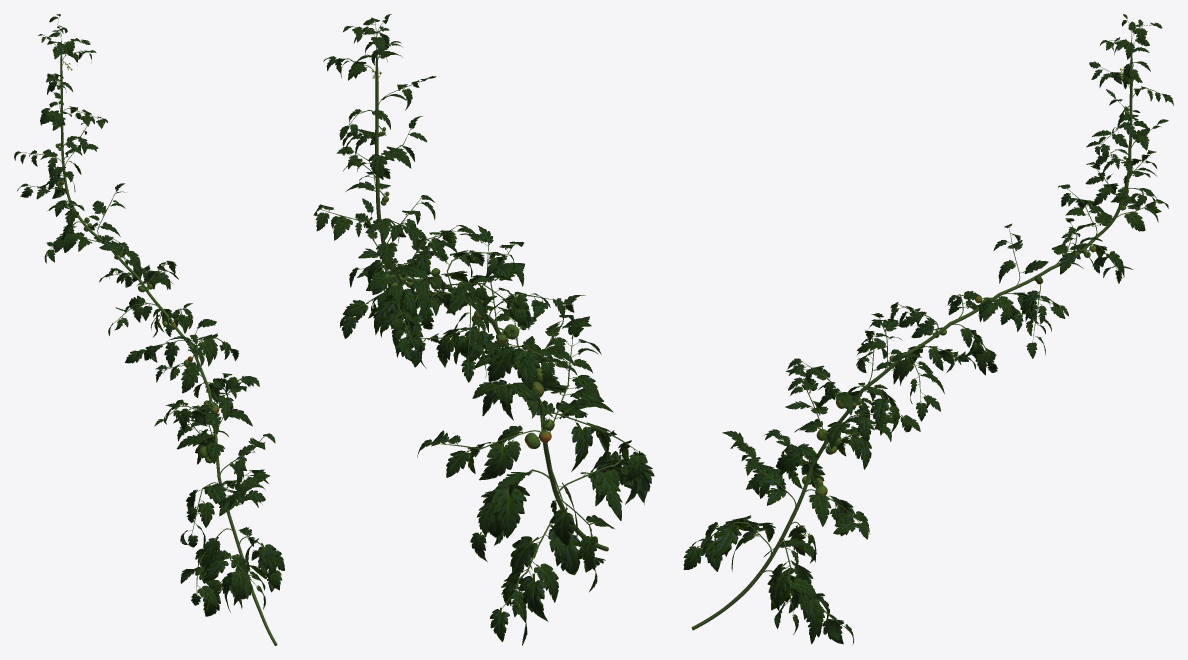
The model's file is tomato_002.glb.
The picture shows the model from 3 angles, left to right: view 1: azimuth 30°, elevation 25°; view 2: azimuth 150°, elevation 25°; view 3: azimuth 270°, elevation 25°; orthographic projection. The views are drawn at different scales.
Parts seen in each view (by area): view 1: tomato_002; view 2: tomato_002; view 3: tomato_002.
Part boxes in pixels (<box>): tomato_002: <box>14,14,284,645</box>; tomato_002: <box>313,14,654,645</box>; tomato_002: <box>683,14,1173,644</box>.
Bounding box in the file's own units: 0.7417 × 2.84 × 2.06.
Materials: 17 (16 with a texture image).
